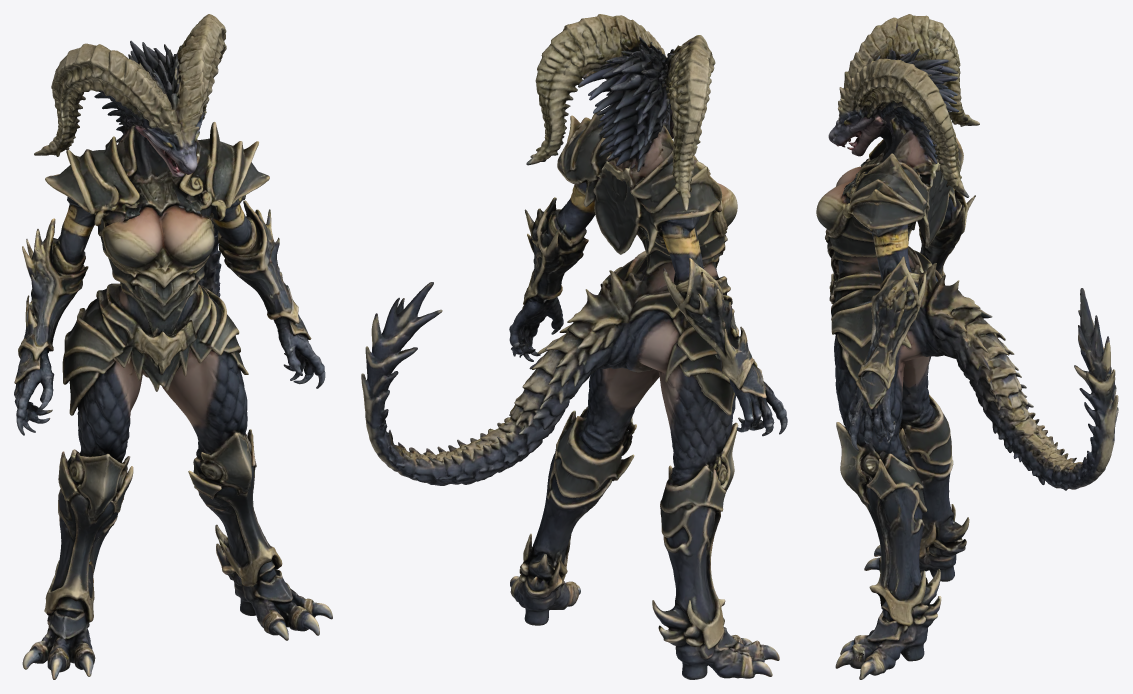
The model's file is Draconic_Warrior.glb.
The picture shows the model from 3 angles, left to right: view 1: azimuth 30°, elevation 25°; view 2: azimuth 150°, elevation 25°; view 3: azimuth 270°, elevation 25°; orthographic projection. The views are drawn at different scales.
Visible parts, largest first — view 1: Mesh_0; view 2: Mesh_0; view 3: Mesh_0.
Part boxes in pixels (<box>): Mesh_0: <box>14,14,332,679</box>; Mesh_0: <box>361,14,787,679</box>; Mesh_0: <box>816,14,1118,679</box>.
Size of the model in its own units: 1.01 by 1.9 by 0.912.
1 material, 1 textured.
